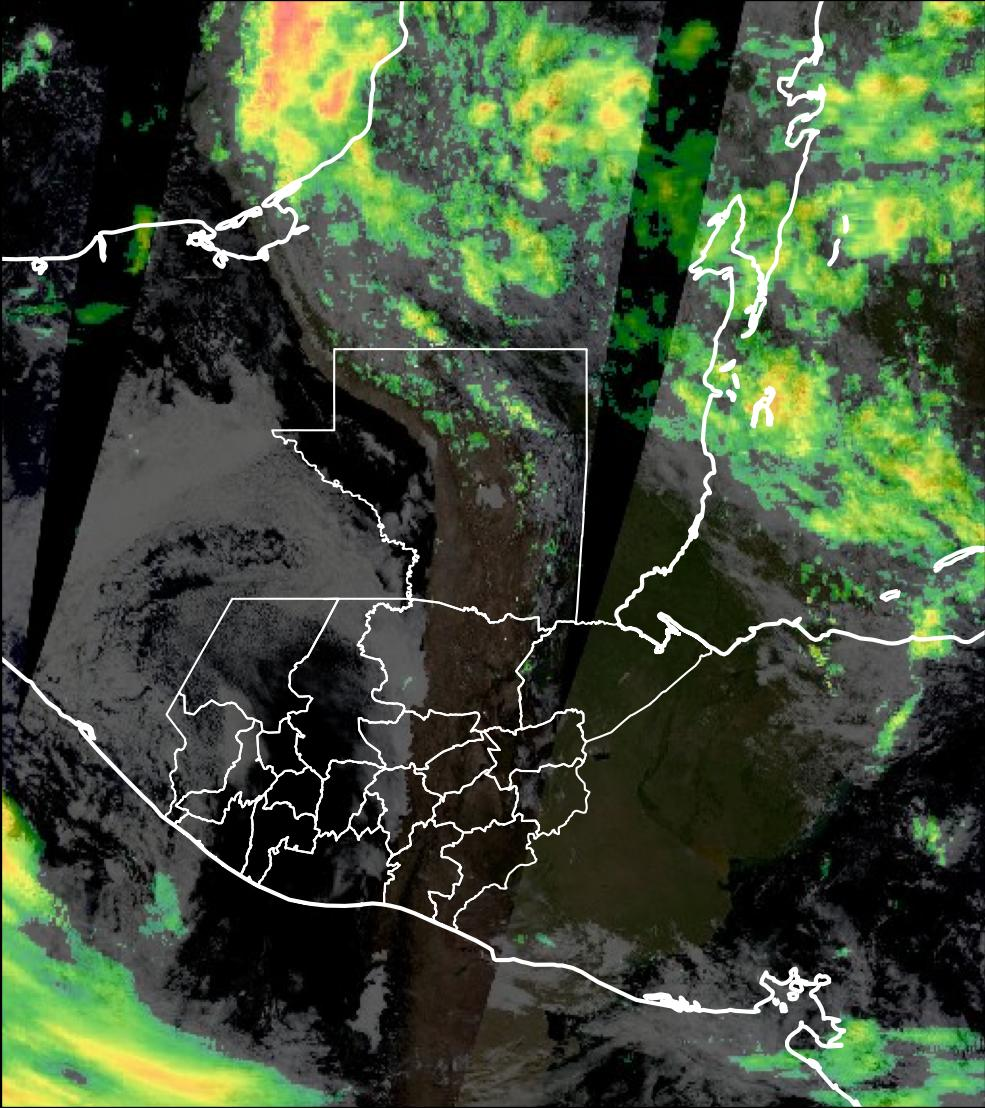precipitacion: (254, 1, 350, 121)
